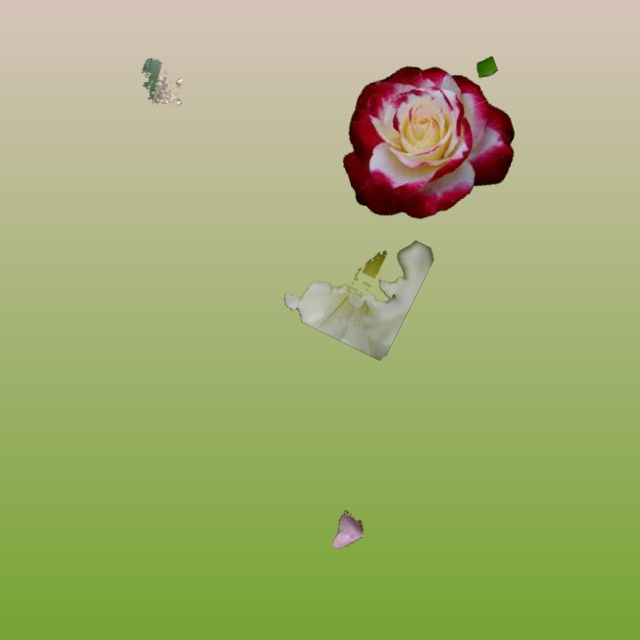butterfly flower: (332, 511, 363, 547)
passion flower: (477, 57, 497, 77)
petunia: (284, 241, 433, 360)
rose: (343, 66, 514, 218)
ylang-ylang: (142, 58, 183, 106)
